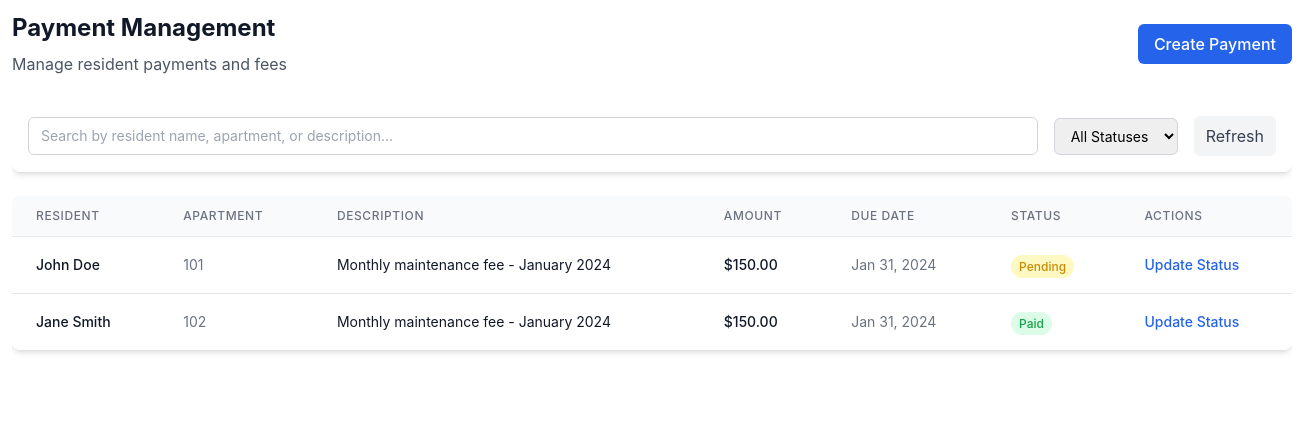
Test: AdminPaymentManagement › renders no filtered payments message when filters return no results
This screenshot has width=1304, height=421.
Expected: the text "John Doe" is shown, top-left (12, 236), bottom-right (159, 294)
// Search for non-existent user
Type "NonExistent" into the field with placeholder "Search by resident name, apartment, or description..." at (533, 136), box top-left (28, 117), bottom-right (1038, 155)
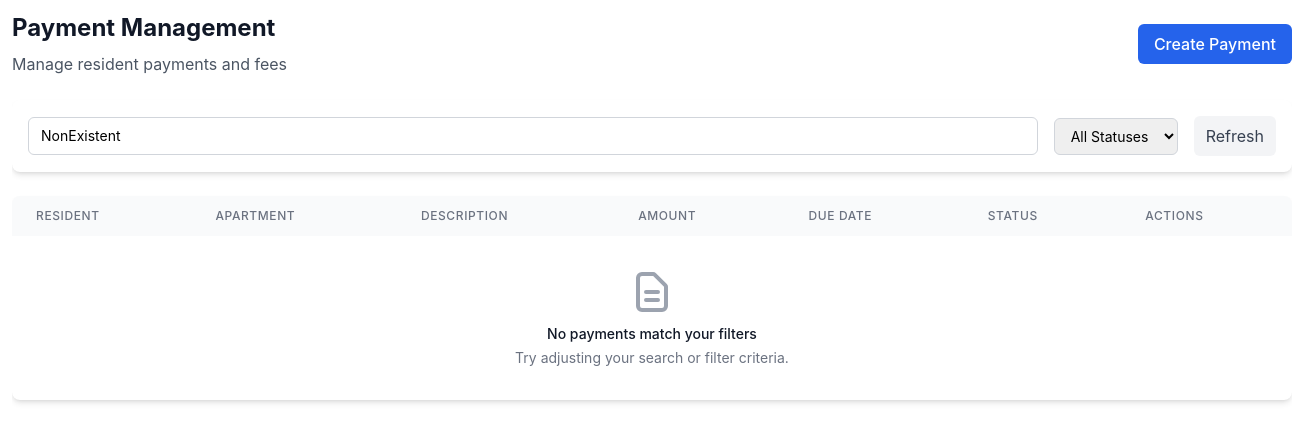
Expected: the heading "No payments match your filters" is shown, top-left (547, 325), bottom-right (757, 342)
Expected: the text "Try adjusting your search or filter criteria." is shown, top-left (515, 349), bottom-right (789, 366)
